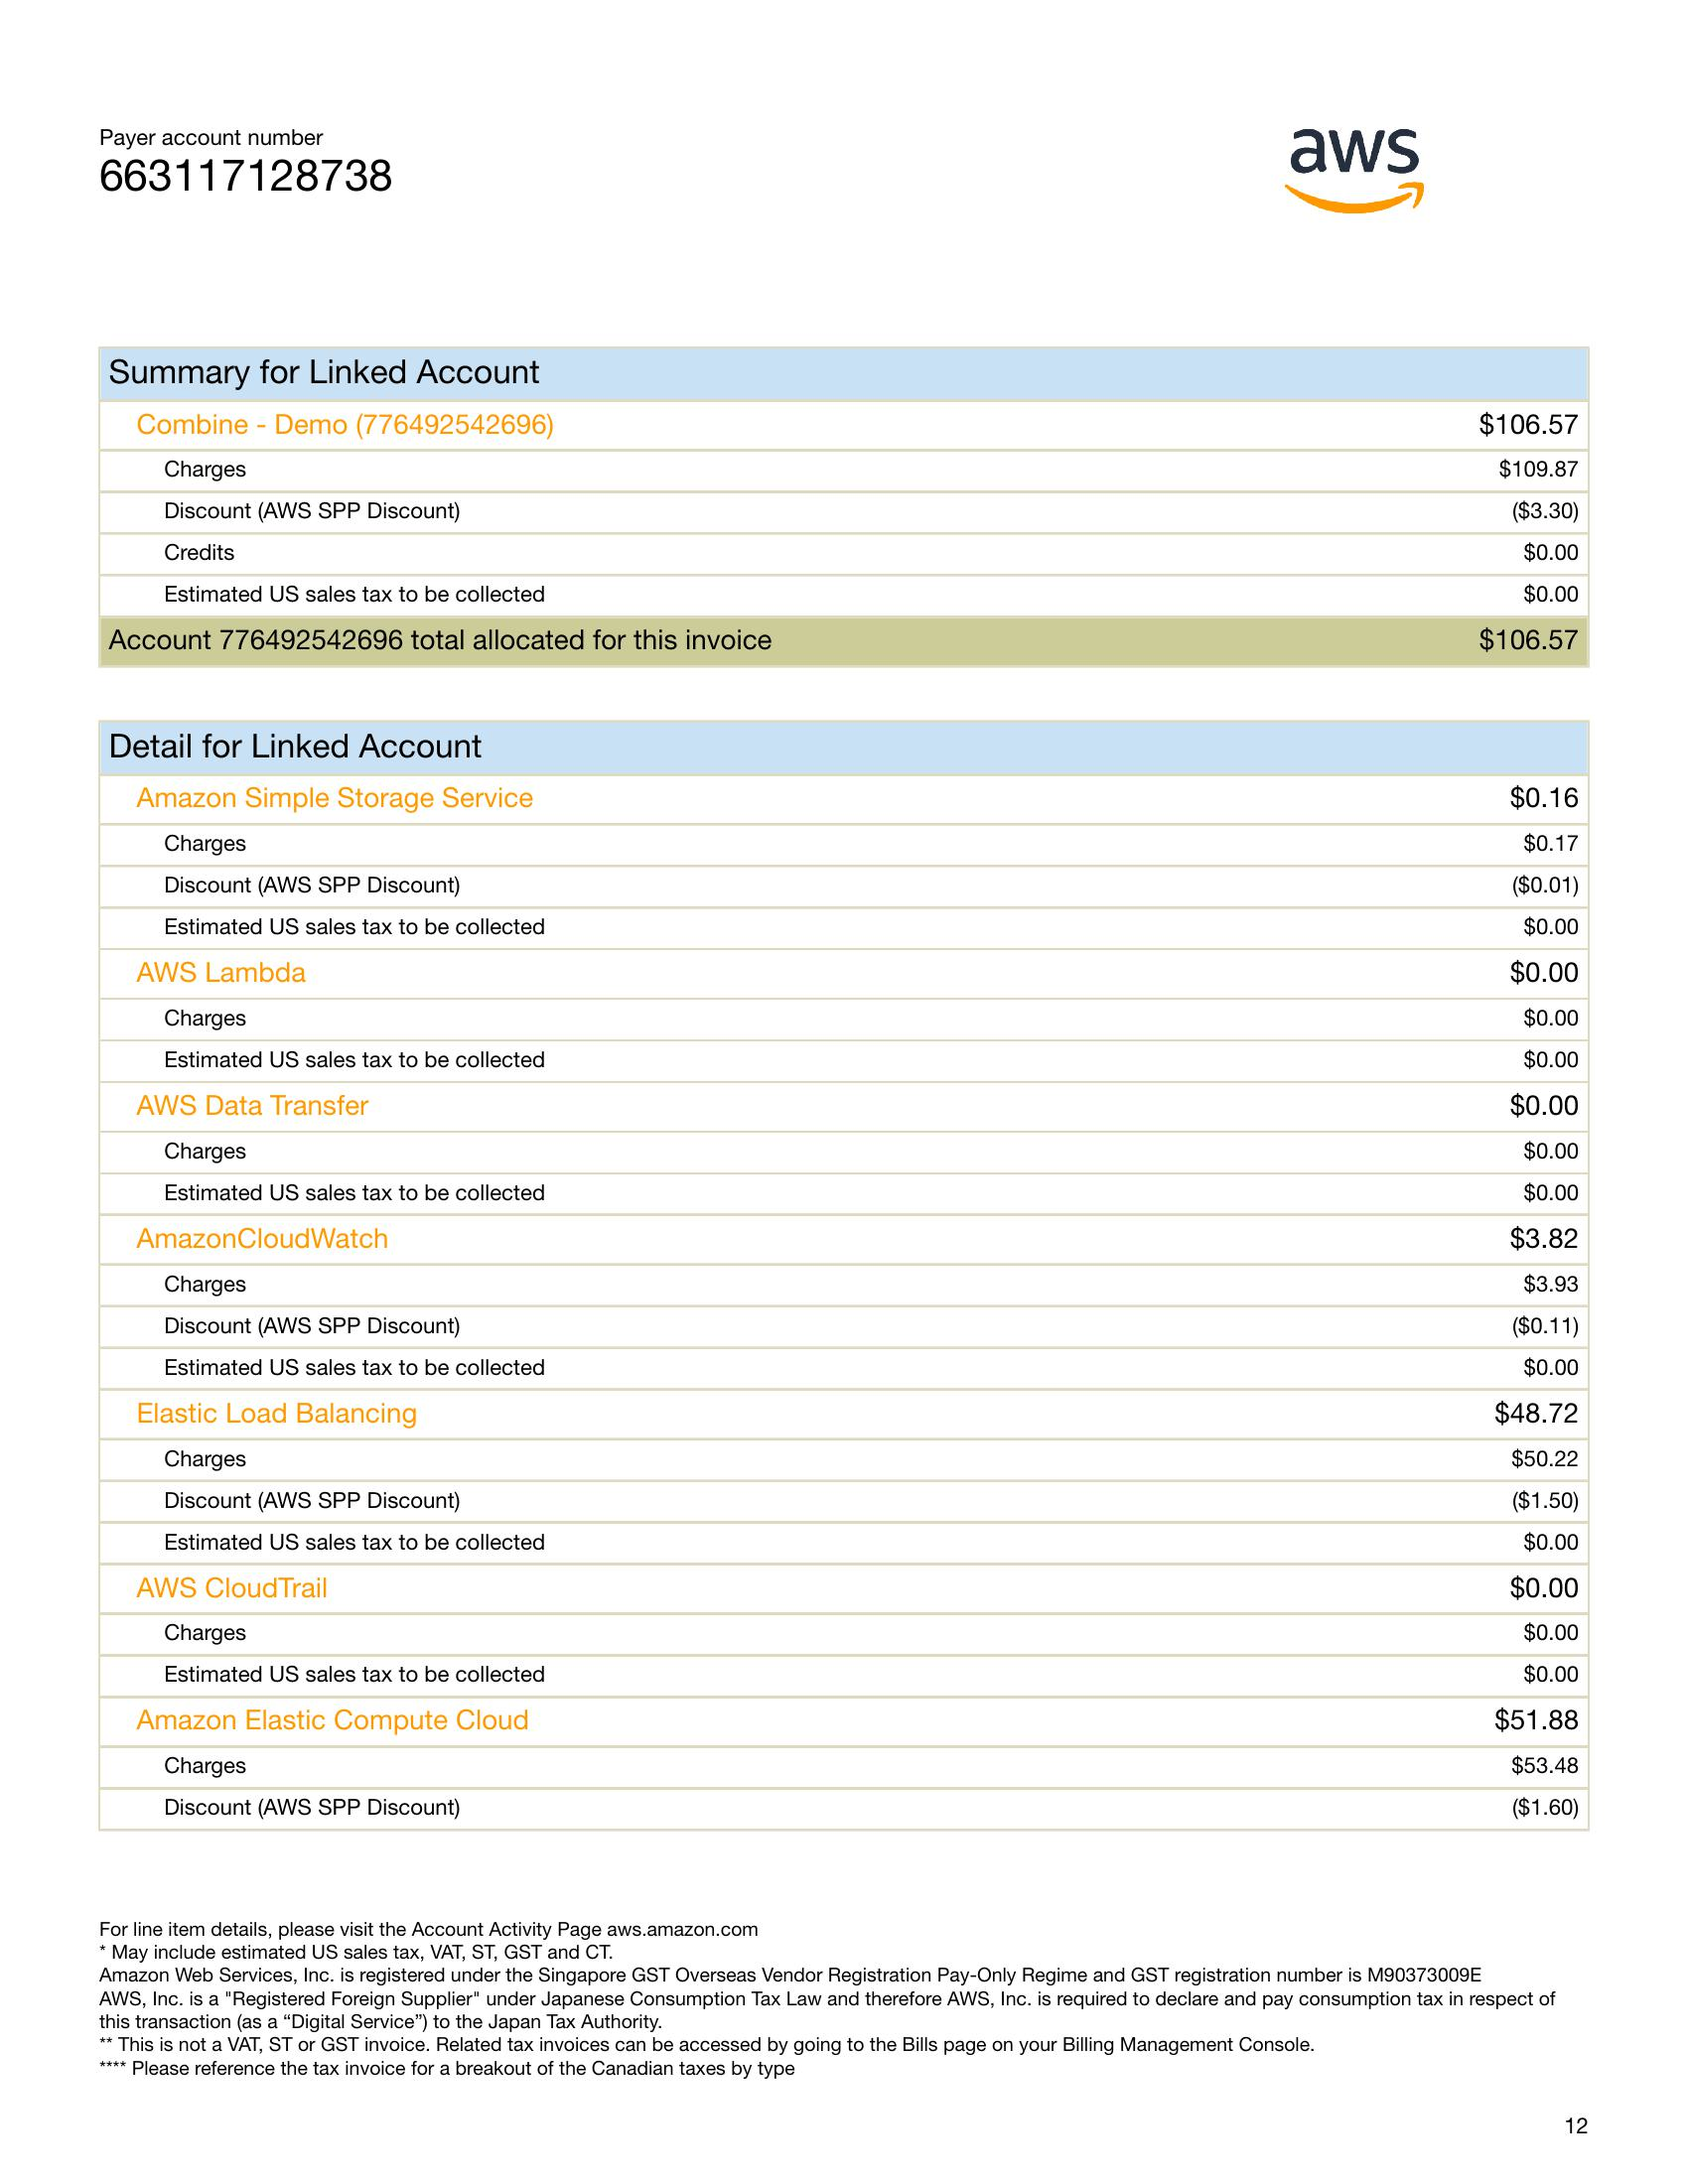table: (82, 714, 1610, 1851), (89, 333, 1606, 681)
